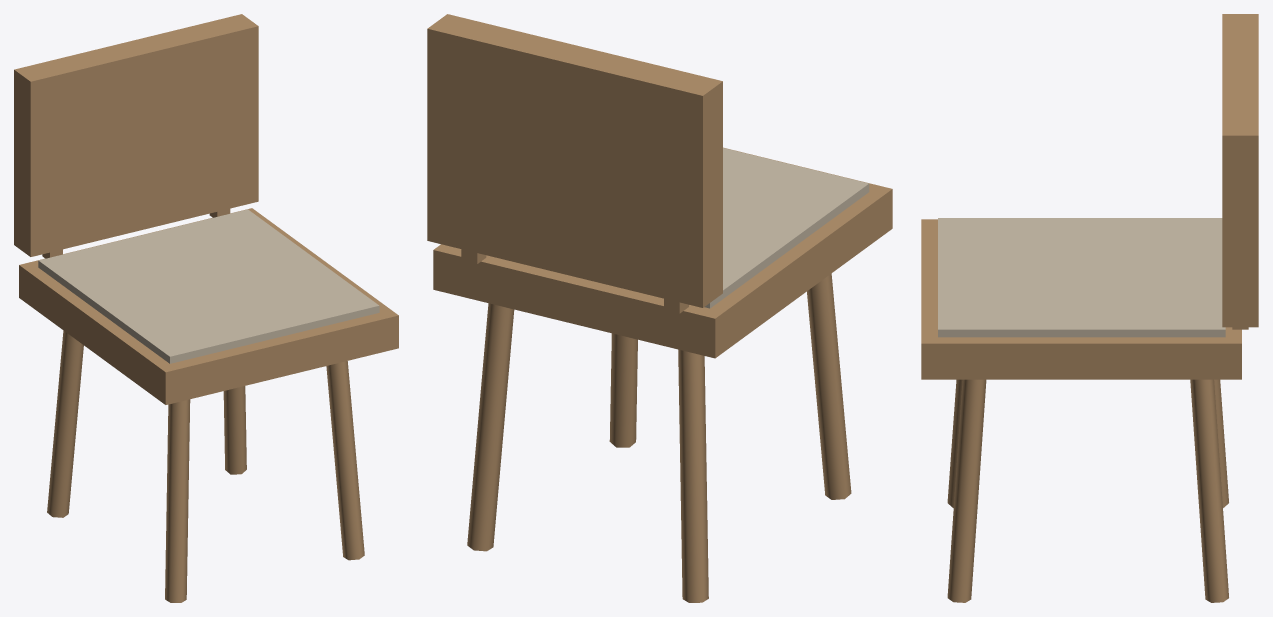
Rendered from chair-1.glb.
3 renders of one model, left to right at view 1: azimuth 30°, elevation 25°; view 2: azimuth 150°, elevation 25°; view 3: azimuth 270°, elevation 25°, orthographic. The views are drawn at different scales.
Visible parts, largest first — view 1: chair:1:editor; view 2: chair:1:editor; view 3: chair:1:editor.
Boxes of the visible parts, x1,y1,x2,y2 form: chair:1:editor: [14, 14, 398, 602]; chair:1:editor: [427, 14, 892, 602]; chair:1:editor: [921, 14, 1258, 602].
Bounding box in the file's own units: 0.445 × 0.7964 × 0.51.
